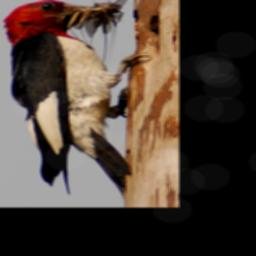Woodpecker: (4, 0, 150, 197)
